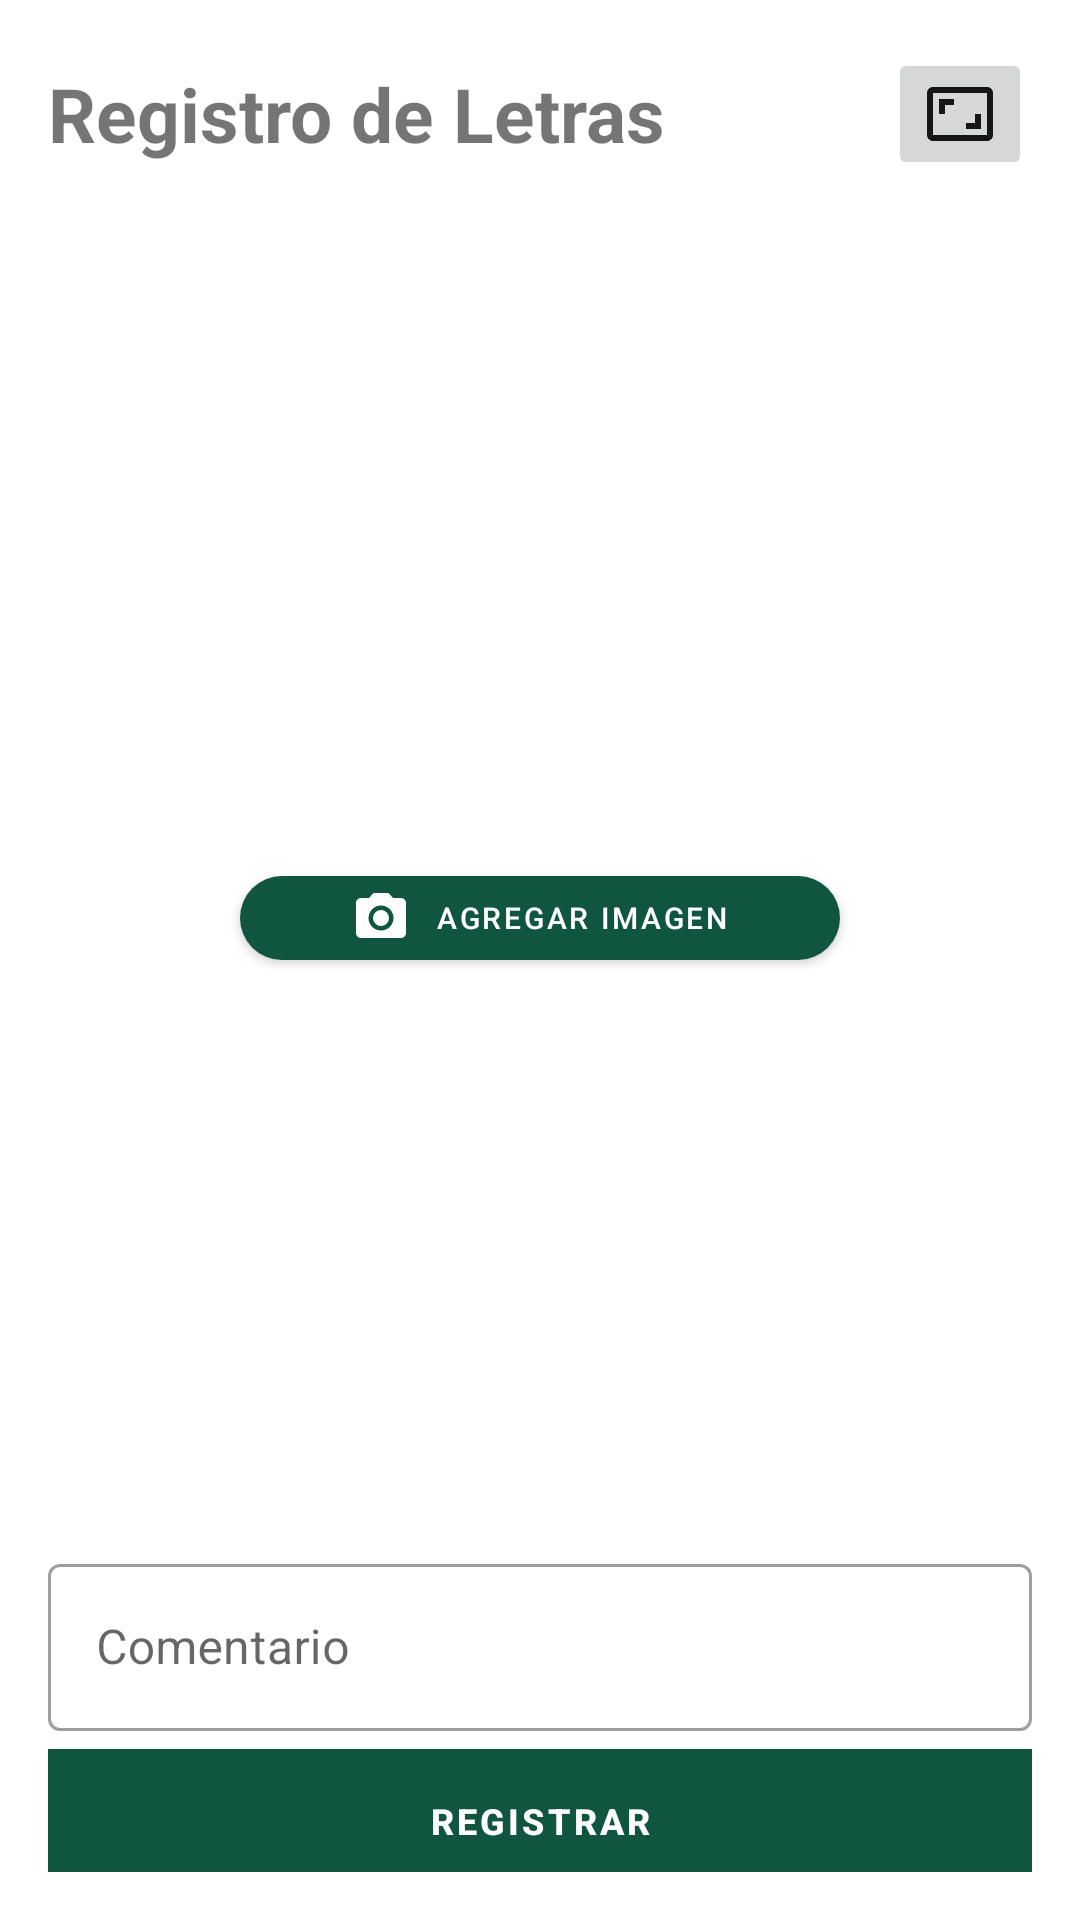

Named icons in this screenshot (1080 × 1920) and their bounding boxes, bbox=(x1, y1, x2, y2):
aspect ratio: bbox=(900, 66, 1020, 162)
